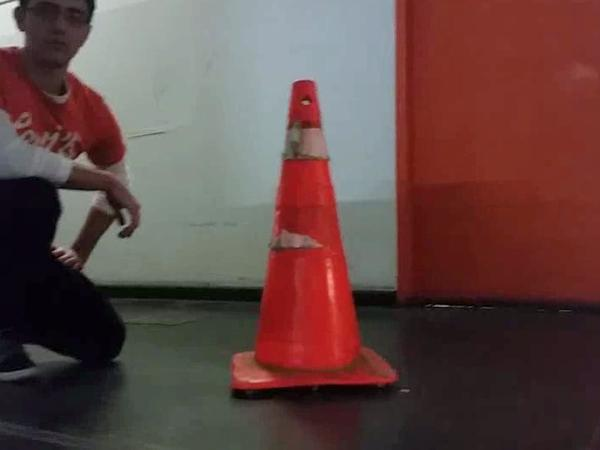0 cone: (230, 79, 400, 393)
